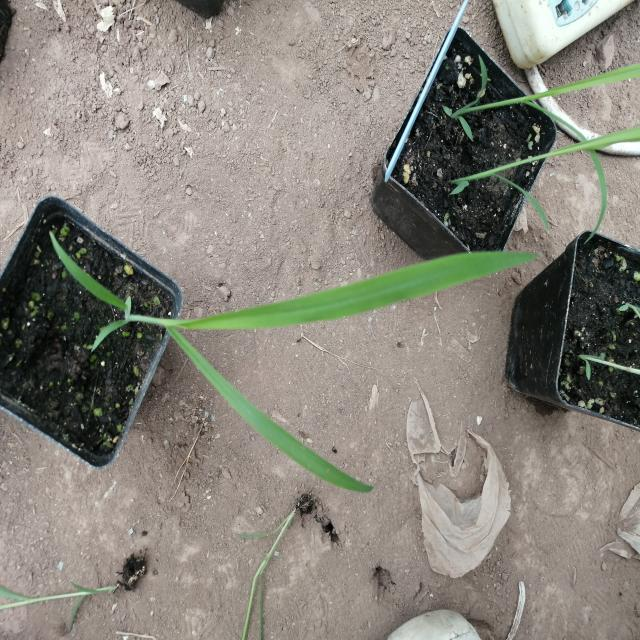crabgrass: (102, 220, 513, 514)
